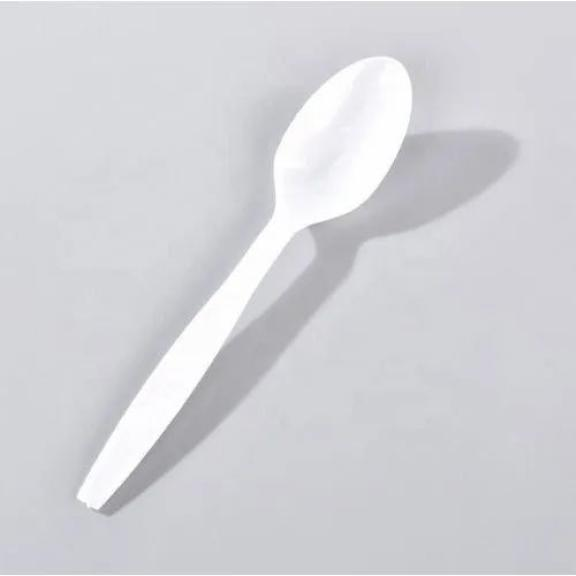Plastik: (78, 57, 411, 509)
